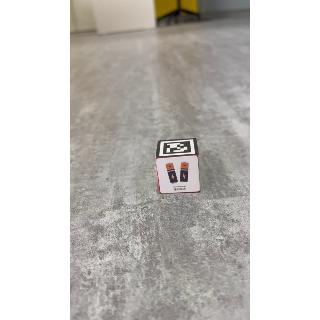Used_Battery: (157, 158, 201, 195)
